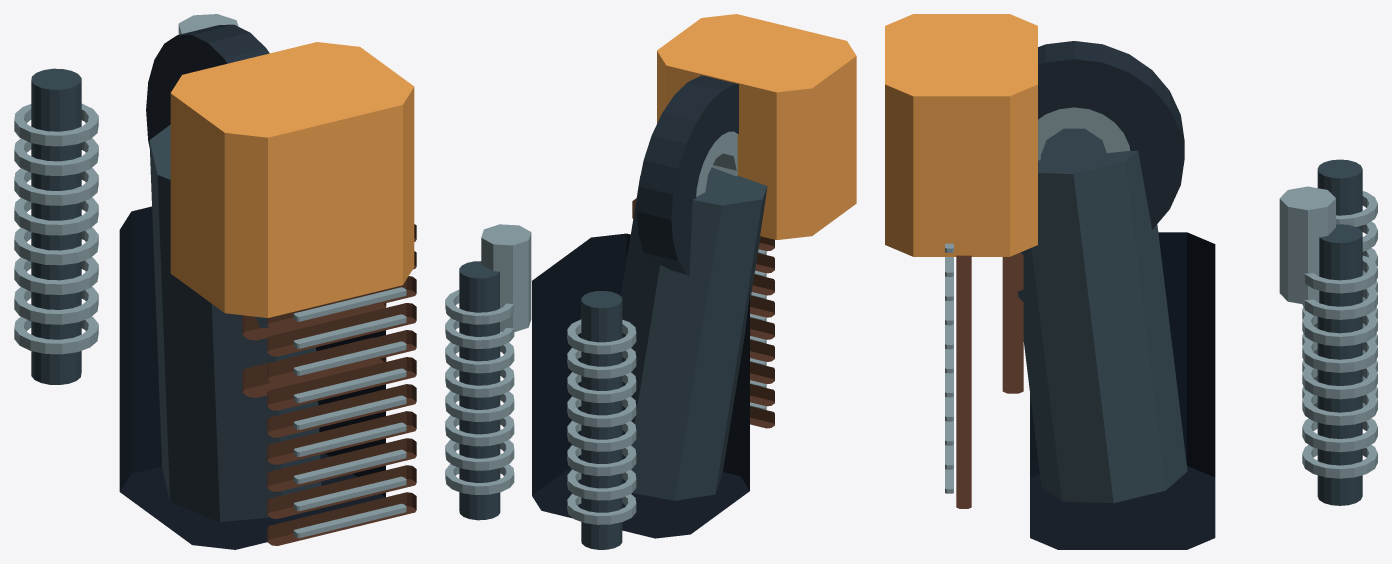
The model's file is enemy_runner_4k_shin_l.obj.
3 views of the same model, side by side, from view 1: azimuth 30°, elevation 25°; view 2: azimuth 150°, elevation 25°; view 3: azimuth 270°, elevation 25° (orthographic). The views are drawn at different scales.
Bounding box in the file's own units: 0.328 × 0.597 × 0.612.
